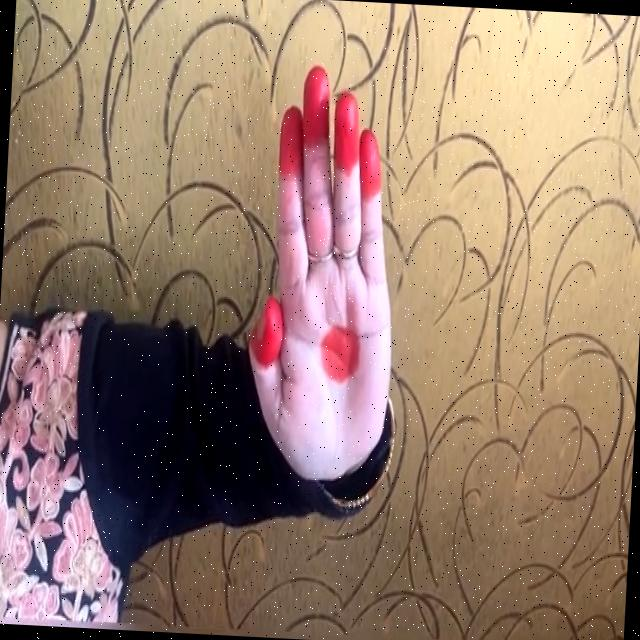Pataka: (227, 42, 412, 537)
